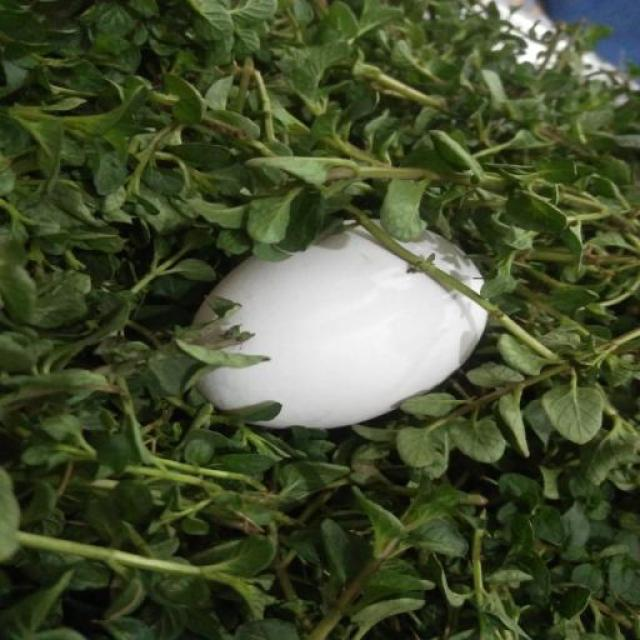telur: (161, 188, 510, 444)
